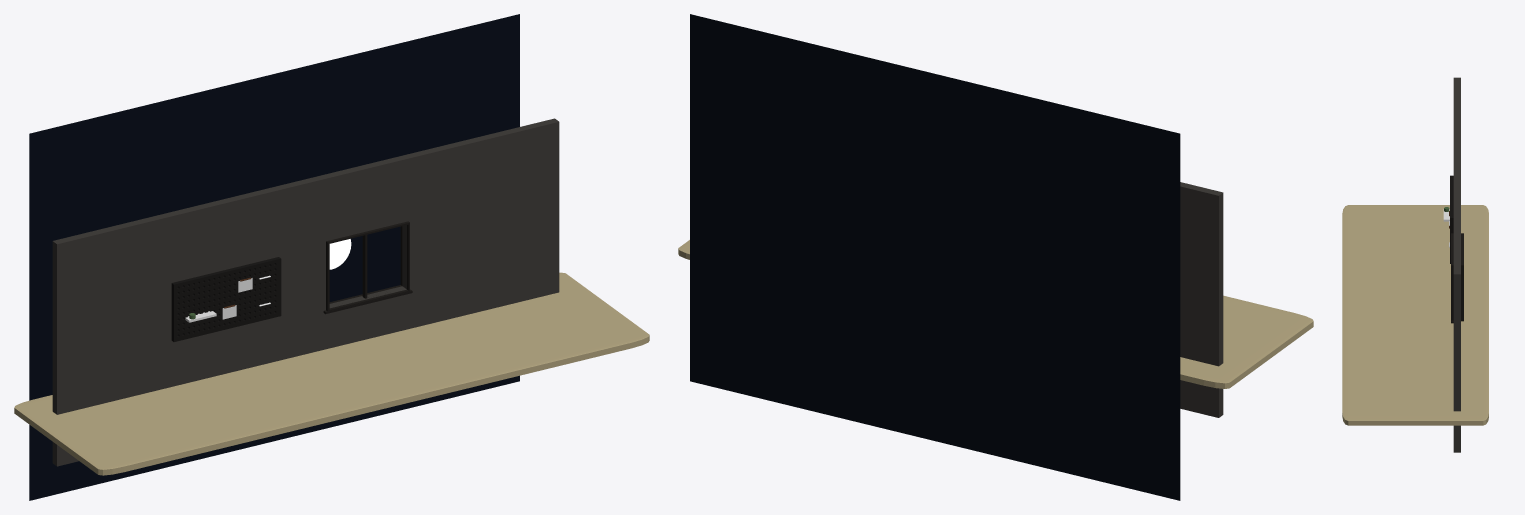
Rendered from room.glb.
3 renders of one model, left to right at view 1: azimuth 30°, elevation 25°; view 2: azimuth 150°, elevation 25°; view 3: azimuth 270°, elevation 25°, orthographic. The views are drawn at different scales.
Visible parts, largest first — view 1: Wall_Main, Sky_Backdrop, Desk_Top, peg_board, Window_Frame; view 2: Sky_Backdrop, Wall_Main, Desk_Top; view 3: Desk_Top, Wall_Main, Window_Frame, peg_board.
Boxes of the visible parts, x1,y1,x2,y2 form: Wall_Main: (52,118,559,466); Sky_Backdrop: (29,14,519,500); Desk_Top: (14,272,649,475); peg_board: (171,257,281,341); Window_Frame: (326,221,409,311); Sky_Backdrop: (690,14,1180,500); Wall_Main: (1180,182,1223,417); Desk_Top: (678,240,1313,388); Desk_Top: (1342,205,1488,425); Wall_Main: (1453,77,1460,452); Window_Frame: (1451,233,1463,321); peg_board: (1450,175,1453,263).
Size of the model in its own units: 27.87 by 17.74 by 9.17.
